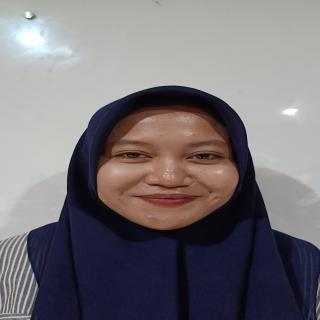Senang: (84, 97, 244, 239)
